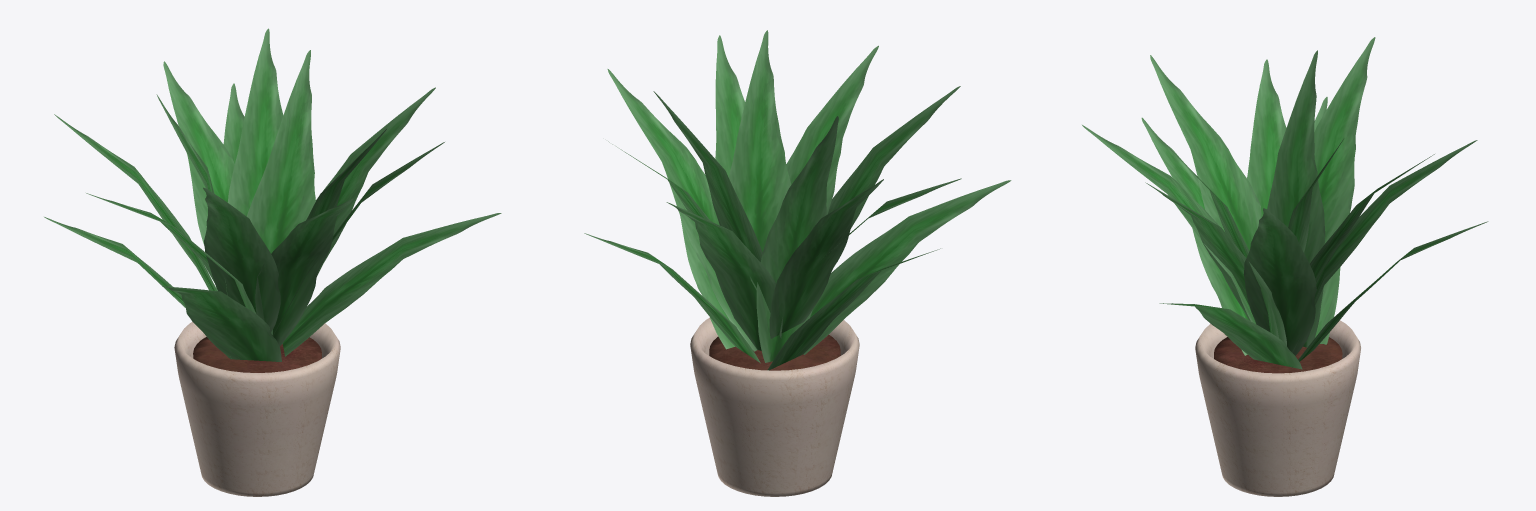
Rendered from aloevera green.FBX.
3 views of the same model, side by side, from view 1: azimuth 30°, elevation 25°; view 2: azimuth 150°, elevation 25°; view 3: azimuth 270°, elevation 25° (orthographic). The views are drawn at different scales.
Visible parts, largest first — view 1: aloevera green; view 2: aloevera green; view 3: aloevera green.
Part boxes in pixels (bbox=[...]): aloevera green: bbox=[44, 28, 501, 496]; aloevera green: bbox=[584, 30, 1011, 496]; aloevera green: bbox=[1082, 37, 1488, 496].
Size of the model in its own units: 1.05 by 0.9544 by 0.9793.
